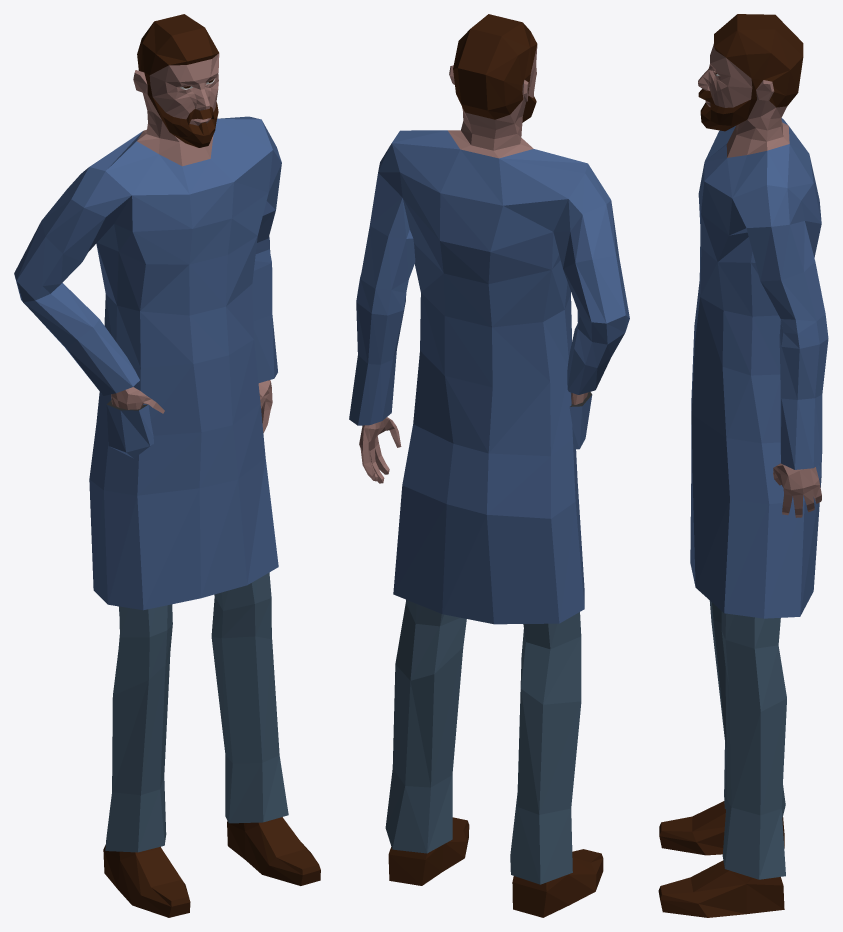
File: technician.dae
3 views of the same model, side by side, from view 1: azimuth 30°, elevation 25°; view 2: azimuth 150°, elevation 25°; view 3: azimuth 270°, elevation 25° (orthographic). The views are drawn at different scales.
Parts seen in each view (by area): view 1: node; view 2: node; view 3: node.
Part boxes in pixels (x1,y1,x2,y2): node: (14,14,320,917); node: (349,14,629,917); node: (658,14,828,917).
Bounding box in the file's own units: 6.6 × 20.25 × 3.7.
